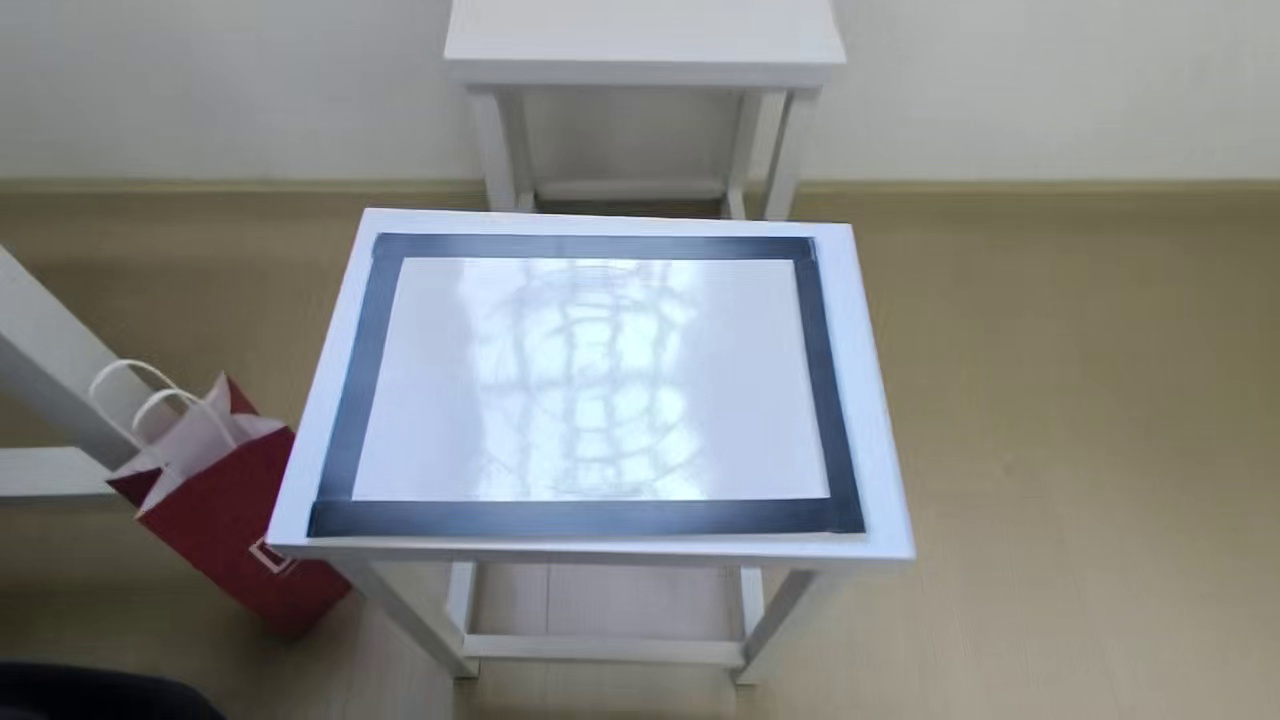board: (310, 232, 861, 534)
